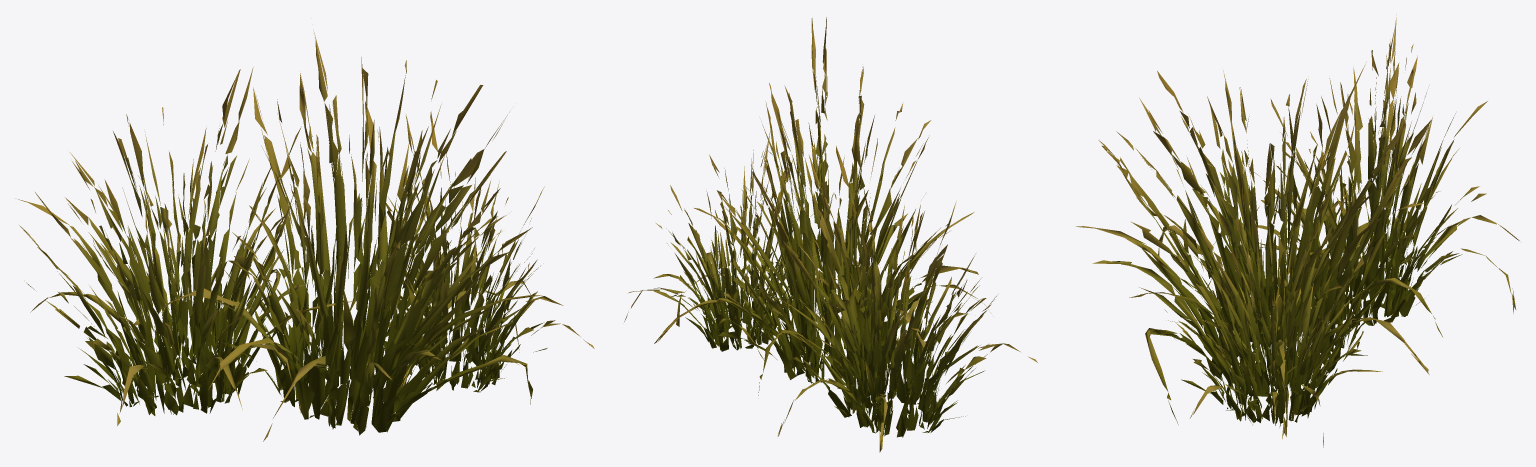
File: desert_grass_fine_trio.glb
3 renders of one model, left to right at view 1: azimuth 30°, elevation 25°; view 2: azimuth 150°, elevation 25°; view 3: azimuth 270°, elevation 25°, orthographic. The views are drawn at different scales.
Parts seen in each view (by area): view 1: desert_grass_fine_trio; view 2: desert_grass_fine_trio; view 3: desert_grass_fine_trio.
Part boxes in pixels (left/top/right/bottom): desert_grass_fine_trio: left=18, top=32, right=594, bottom=441; desert_grass_fine_trio: left=624, top=17, right=1037, bottom=452; desert_grass_fine_trio: left=1076, top=14, right=1519, bottom=447.
Size of the model in its own units: 1.37 by 0.9727 by 1.18.
Materials: 1 (1 with a texture image).
